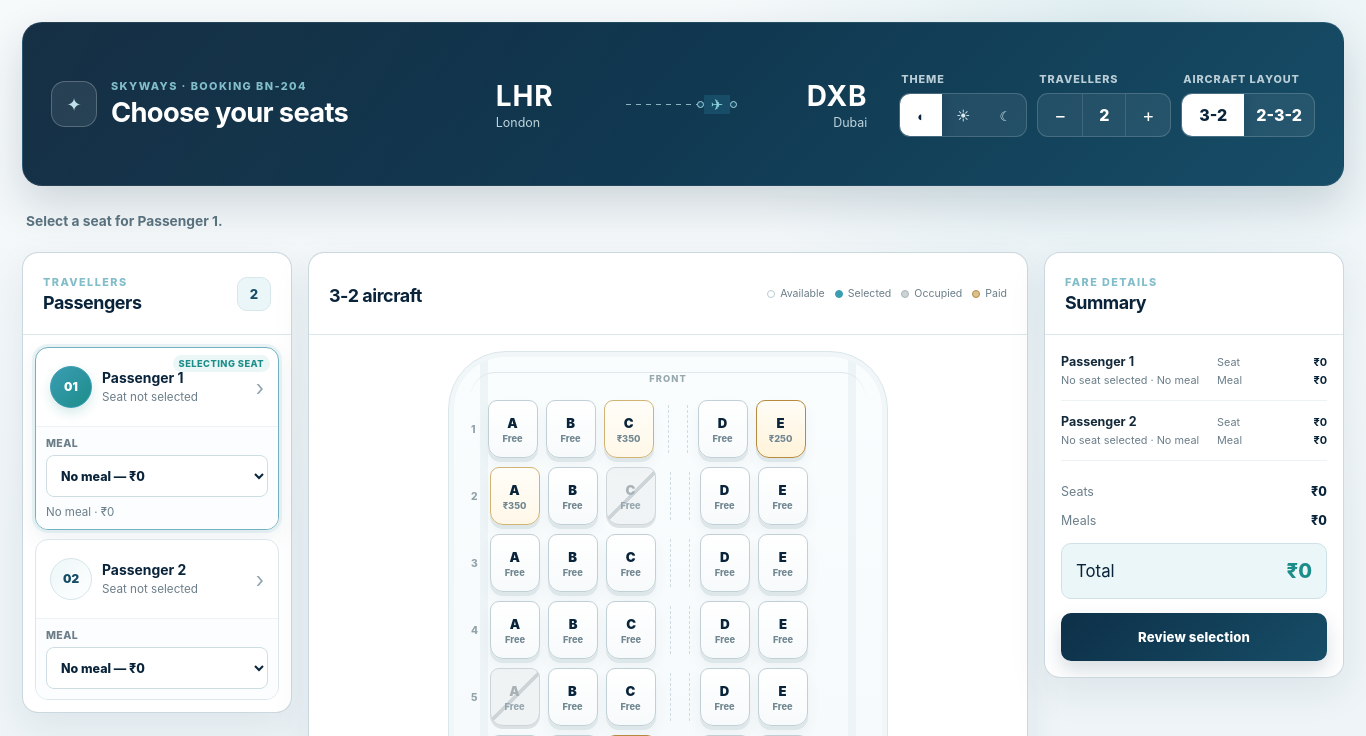
Test: App › allows independent meal selections for every passenger
Step 1. Select "Chicken meal — ₹300" in the dropdown named "Meal for Passenger 1" → x=157, y=476, box [46,455,268,497]
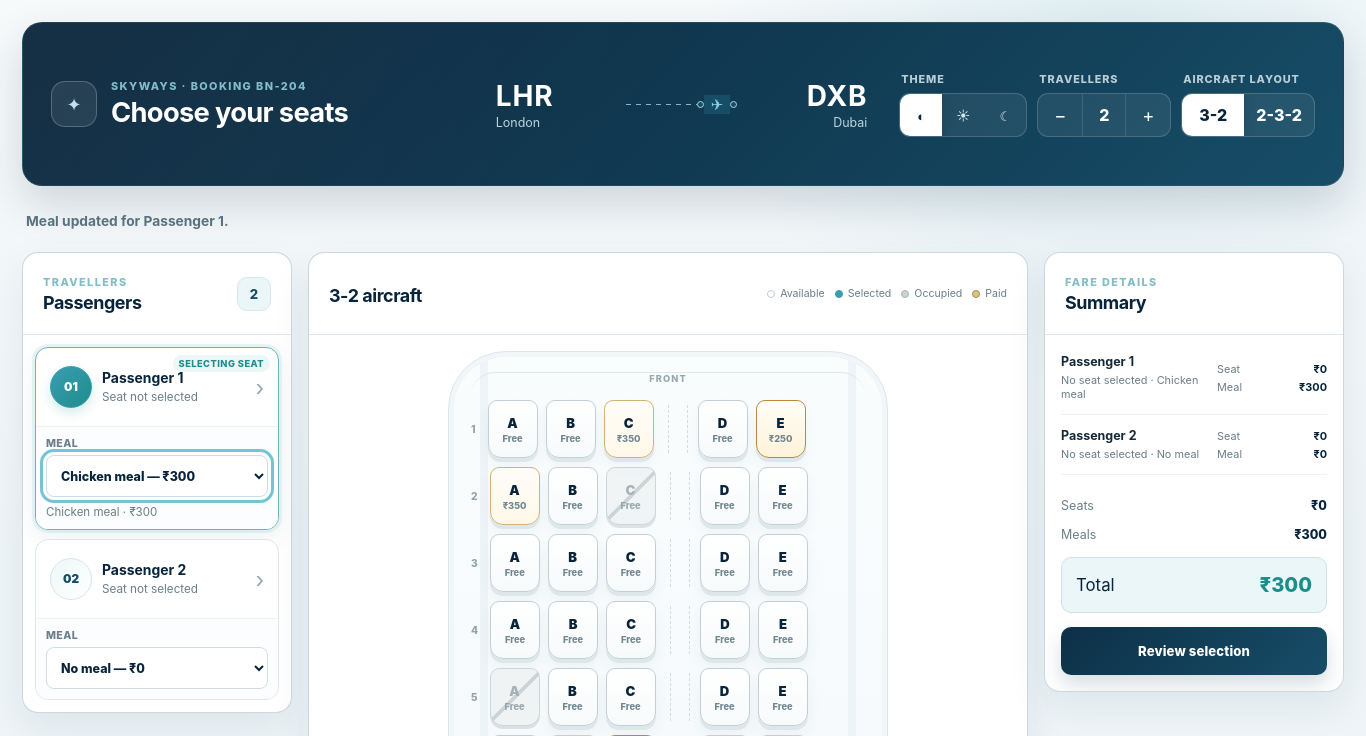
Step 2. Select "Vegetarian meal — ₹0" in the dropdown named "Meal for Passenger 2" → x=157, y=668, box [46,647,268,689]
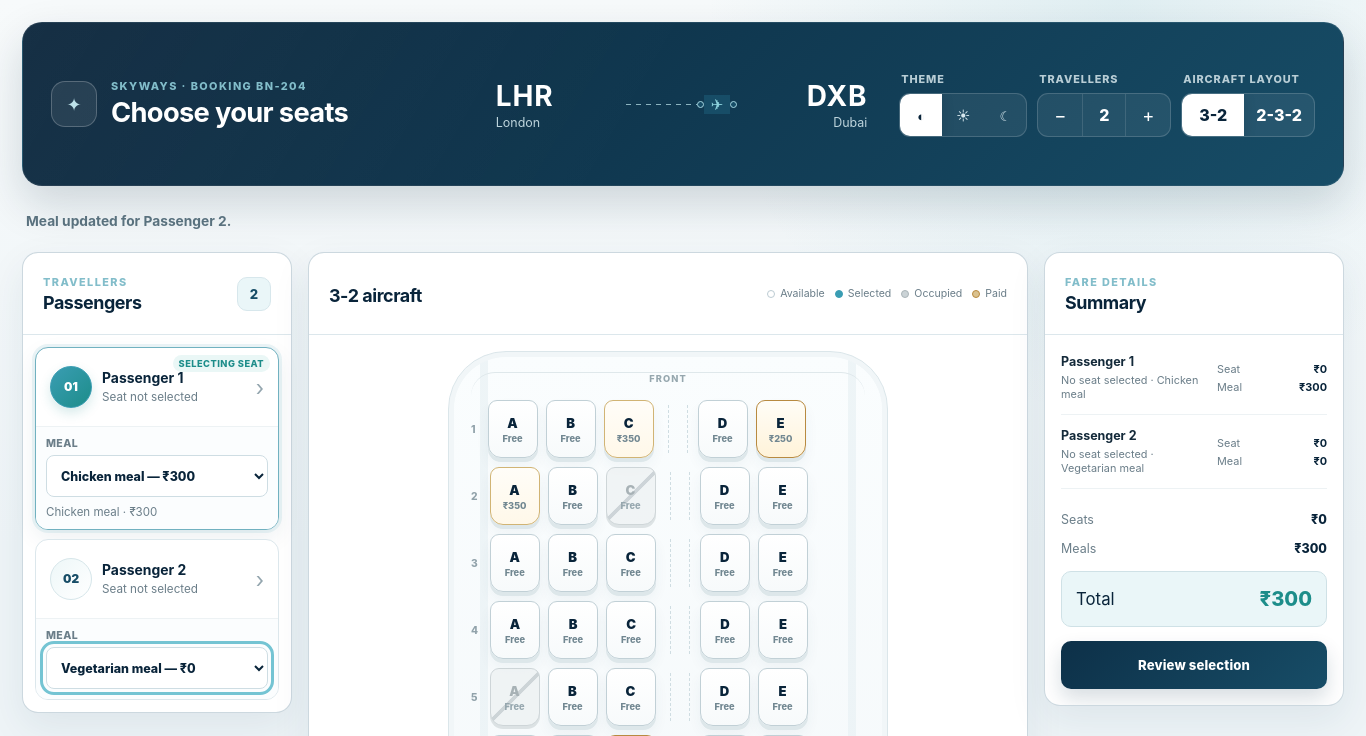
Check: the text "Meal updated for Passenger 2." is shown, box [26,213,231,229]
